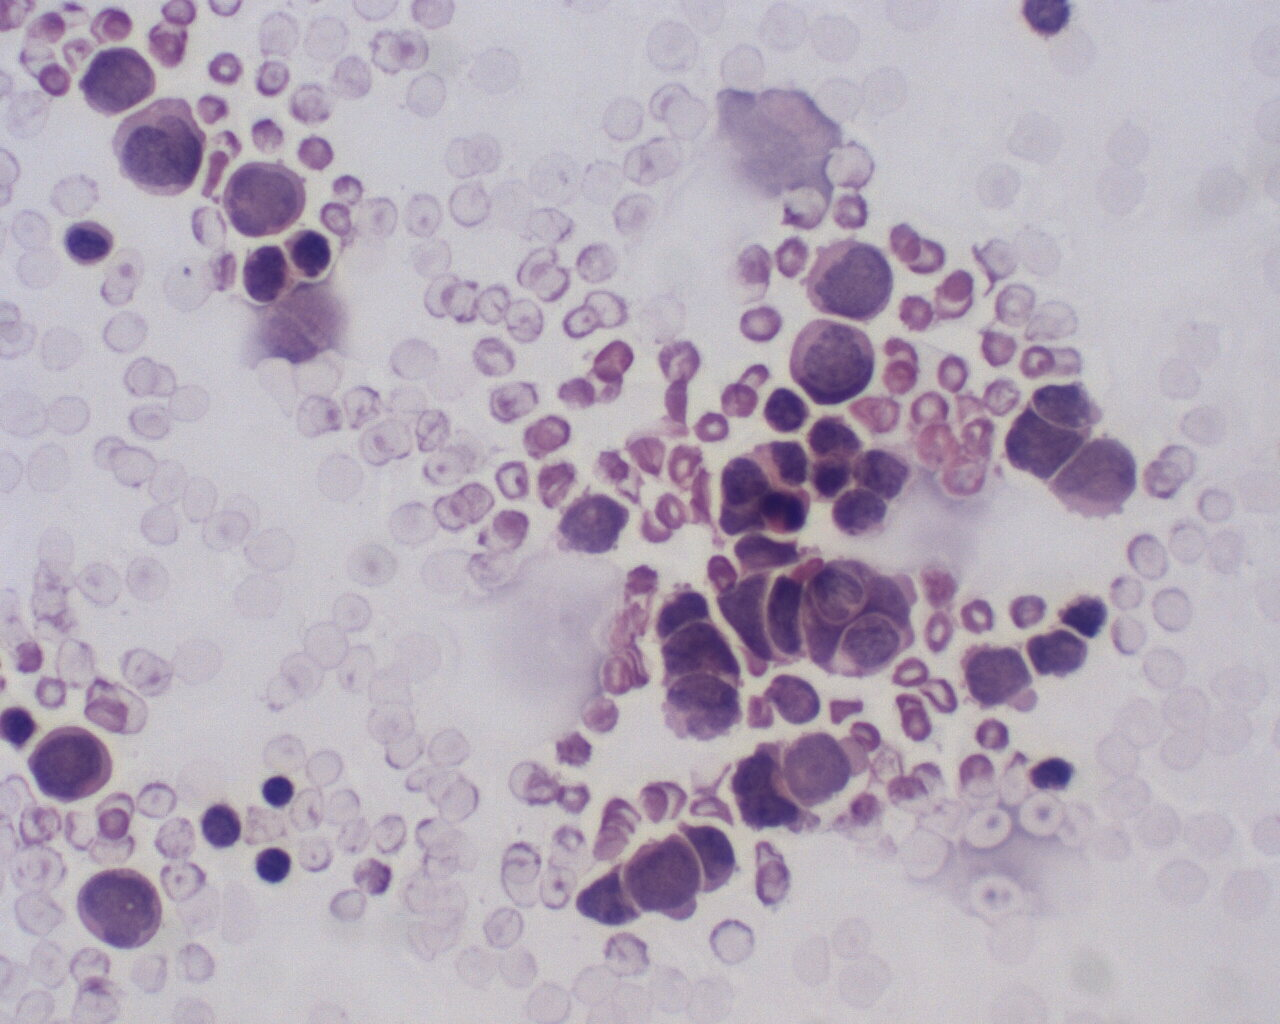ab: (115, 99, 213, 197), (1048, 427, 1141, 526), (787, 312, 878, 404), (806, 236, 897, 323), (621, 831, 701, 926), (78, 865, 164, 953), (999, 392, 1080, 483), (226, 160, 311, 240), (28, 725, 111, 804), (655, 675, 748, 739)
lymph: (251, 841, 298, 886), (259, 769, 300, 812)
